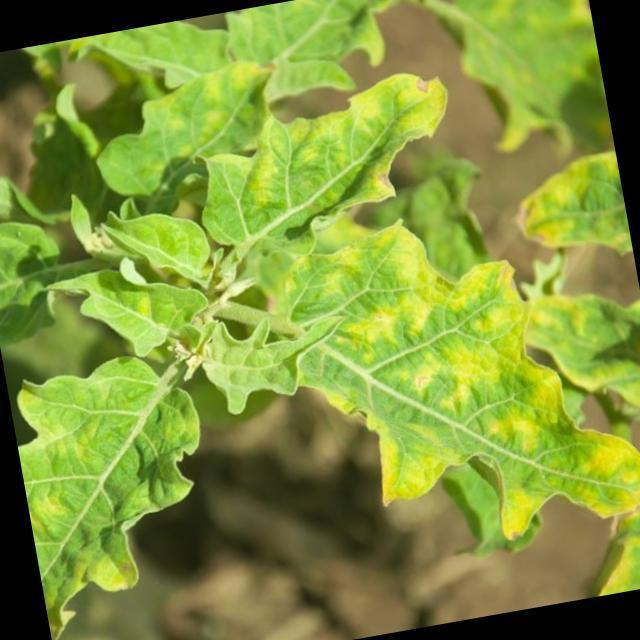Mosaic Virus: (279, 203, 640, 570), (7, 340, 232, 640), (176, 66, 462, 268)
